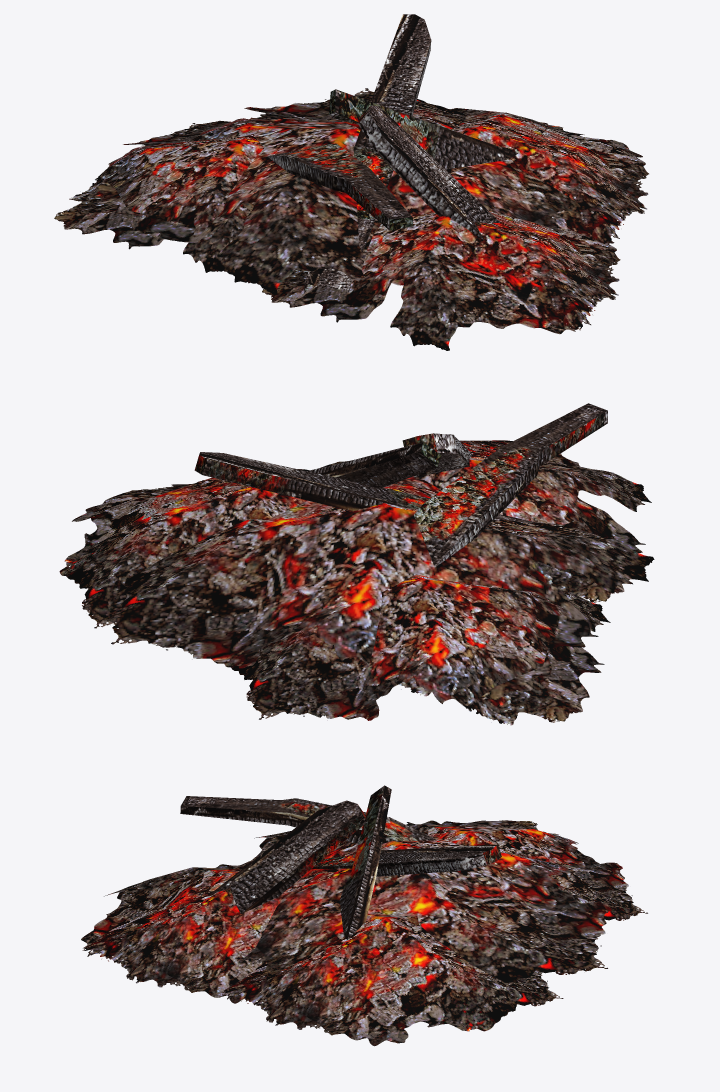
File: burning _embers_big.FBX
3 views of the same model, one above another, from view 1: azimuth 30°, elevation 25°; view 2: azimuth 150°, elevation 25°; view 3: azimuth 270°, elevation 25° (orthographic). The views are drawn at different scales.
Visible parts, largest first — view 1: AshesBig, BurningWoodBig; view 2: AshesBig, BurningWoodBig; view 3: AshesBig, BurningWoodBig.
Boxes of the visible parts, x1=… form: AshesBig: x1=54, y1=88, x2=648, y2=350; BurningWoodBig: x1=267, y1=14, x2=517, y2=293; AshesBig: x1=59, y1=440, x2=654, y2=725; BurningWoodBig: x1=194, y1=403, x2=607, y2=717; AshesBig: x1=81, y1=820, x2=647, y2=1046; BurningWoodBig: x1=180, y1=785, x2=501, y2=939.
Size of the model in its own units: 26.53 by 6.41 by 27.41.
